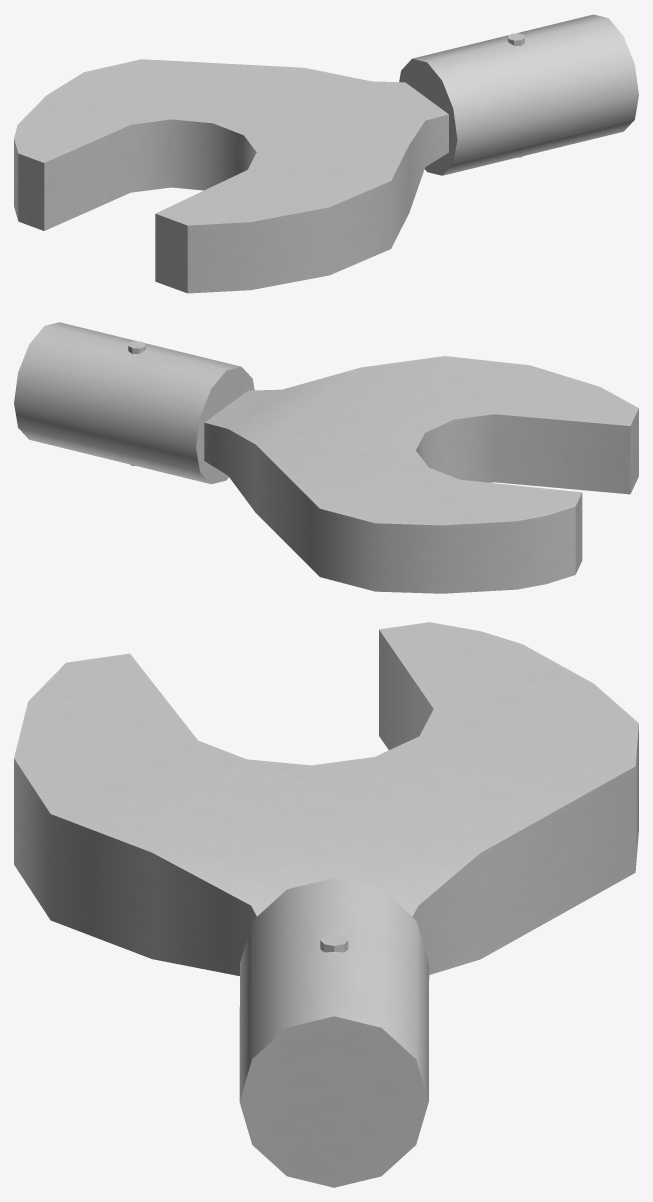
Rendered from tool_torque_wrench_nozzle_02.glb.
3 renders of one model, top to bottom at view 1: azimuth 30°, elevation 25°; view 2: azimuth 150°, elevation 25°; view 3: azimuth 270°, elevation 25°, orthographic. The views are drawn at different scales.
Parts seen in each view (by area): view 1: tool_torque_wrench_nozzle_02; view 2: tool_torque_wrench_nozzle_02; view 3: tool_torque_wrench_nozzle_02.
Part boxes in pixels (left/top/right/bottom): tool_torque_wrench_nozzle_02: left=14, top=14, right=638, bottom=293; tool_torque_wrench_nozzle_02: left=14, top=322, right=638, bottom=593; tool_torque_wrench_nozzle_02: left=14, top=622, right=638, bottom=1187.
Size of the model in its own units: 0.0672 by 0.0135 by 0.0416.
1 material, 1 textured.
